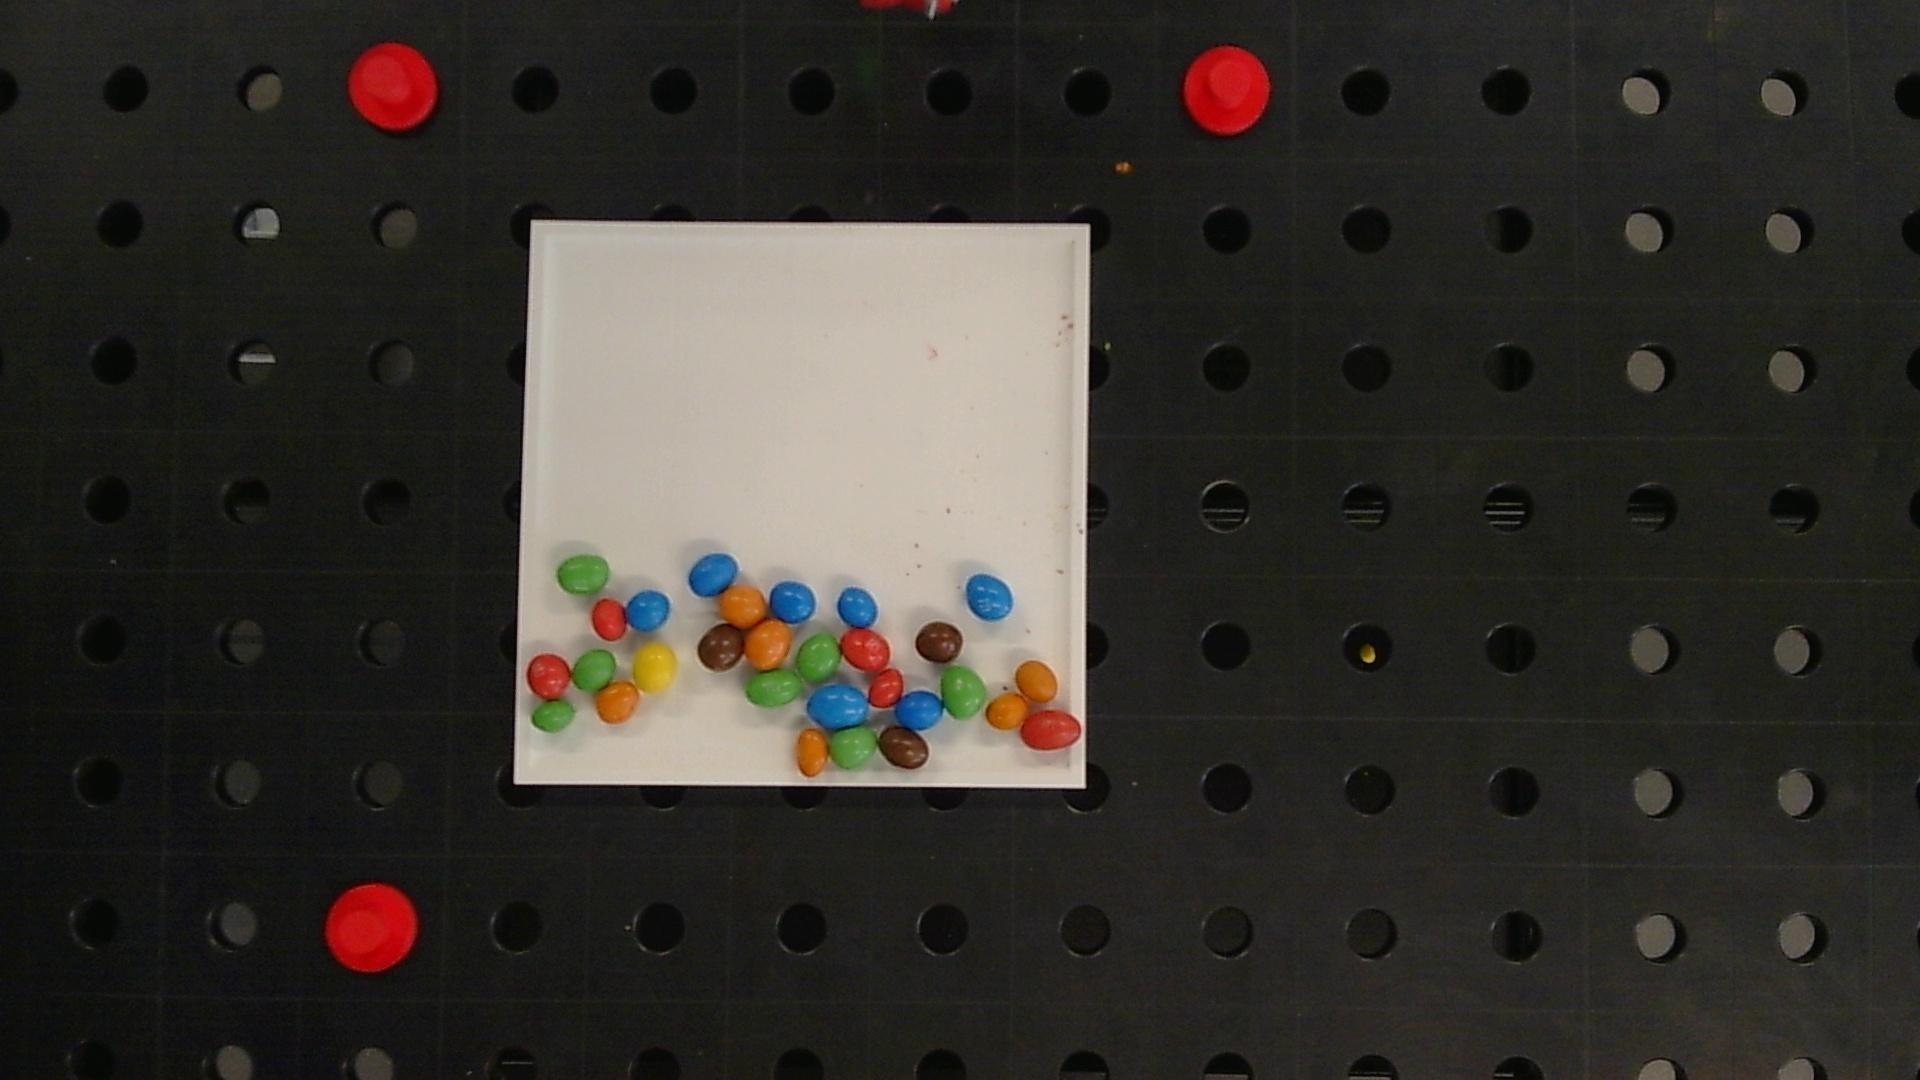blue: (808, 684, 869, 727), (967, 574, 1013, 622), (687, 554, 738, 595), (769, 580, 814, 622), (895, 691, 943, 731), (628, 591, 670, 632), (839, 587, 877, 628)
brown: (878, 725, 928, 770), (699, 624, 745, 671), (915, 621, 963, 663)
green: (942, 667, 988, 719), (745, 669, 803, 707), (554, 555, 609, 593), (829, 727, 877, 769), (799, 632, 839, 680), (572, 649, 616, 691), (530, 700, 576, 732)
orange: (745, 618, 789, 667), (595, 680, 640, 724), (720, 585, 766, 626), (1015, 658, 1058, 700), (794, 728, 829, 777), (988, 694, 1027, 729)
red: (1022, 711, 1081, 748), (841, 629, 889, 671), (527, 655, 570, 699), (593, 599, 625, 641), (869, 667, 902, 707)
yellow: (633, 644, 678, 694)
